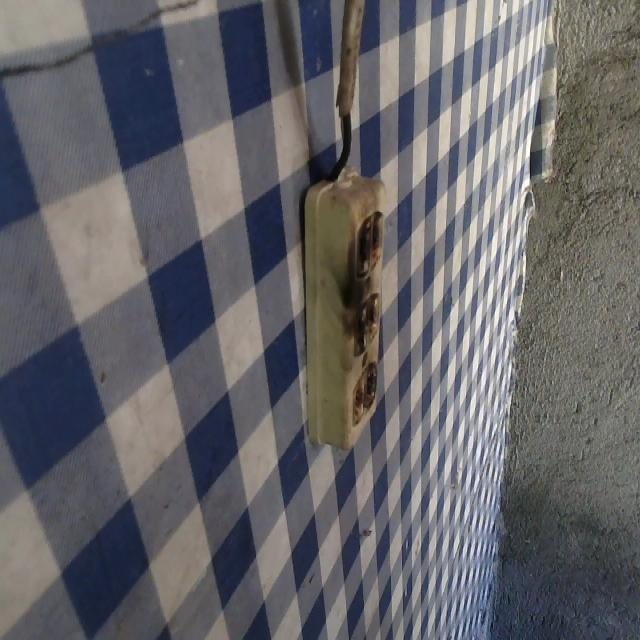-: (353, 208, 385, 277), (348, 360, 378, 420), (352, 290, 381, 350)
